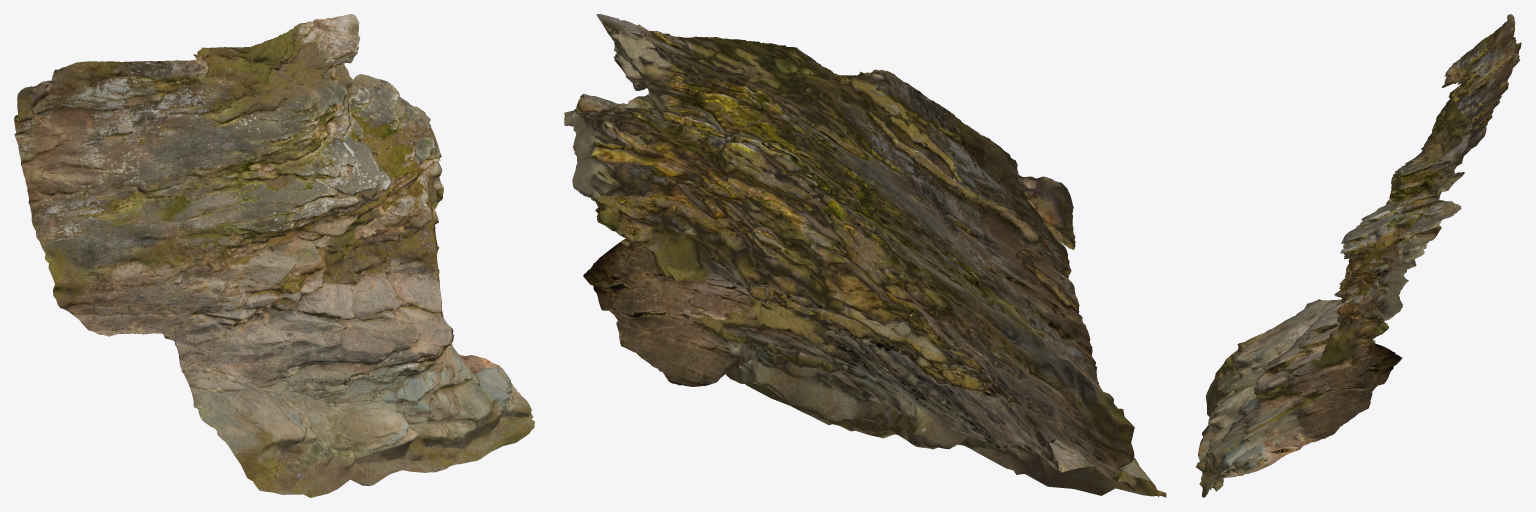
The model's file is rock_face_02.glb.
3 renders of one model, left to right at view 1: azimuth 30°, elevation 25°; view 2: azimuth 150°, elevation 25°; view 3: azimuth 270°, elevation 25°, orthographic. The views are drawn at different scales.
Parts seen in each view (by area): view 1: rock_face_02; view 2: rock_face_02; view 3: rock_face_02.
Boxes of the visible parts, <box> form: rock_face_02: <box>14,14,534,497</box>; rock_face_02: <box>564,14,1166,497</box>; rock_face_02: <box>1196,14,1521,497</box>.
Size of the model in its own units: 2.71 by 2.47 by 2.13.
1 material, 1 textured.
